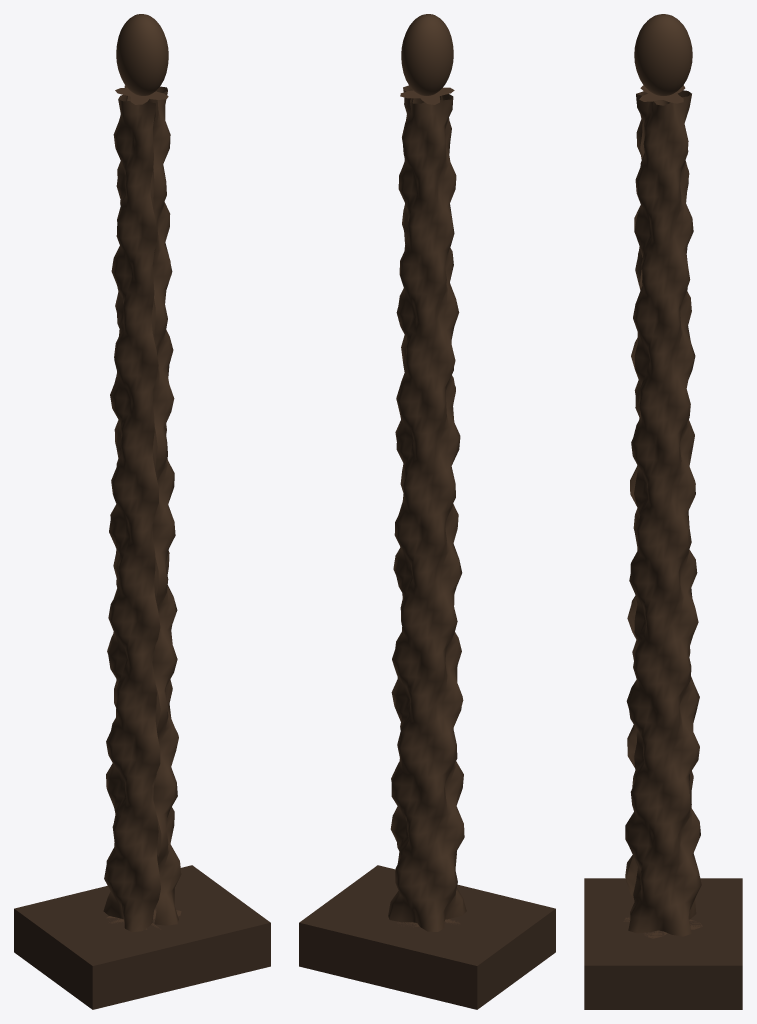
Rendered from sc-thin-figure.glb.
The picture shows the model from 3 angles, left to right: view 1: azimuth 30°, elevation 25°; view 2: azimuth 150°, elevation 25°; view 3: azimuth 270°, elevation 25°; orthographic projection.
Parts seen in each view (by area): view 1: sc_thin_figure; view 2: sc_thin_figure; view 3: sc_thin_figure.
Part boxes in pixels (x1,y1,x2,y2): sc_thin_figure: (14, 14, 270, 1009); sc_thin_figure: (299, 14, 555, 1009); sc_thin_figure: (584, 14, 742, 1009).
Bounding box in the file's own units: 0.1816 × 0.92 × 0.1389.
